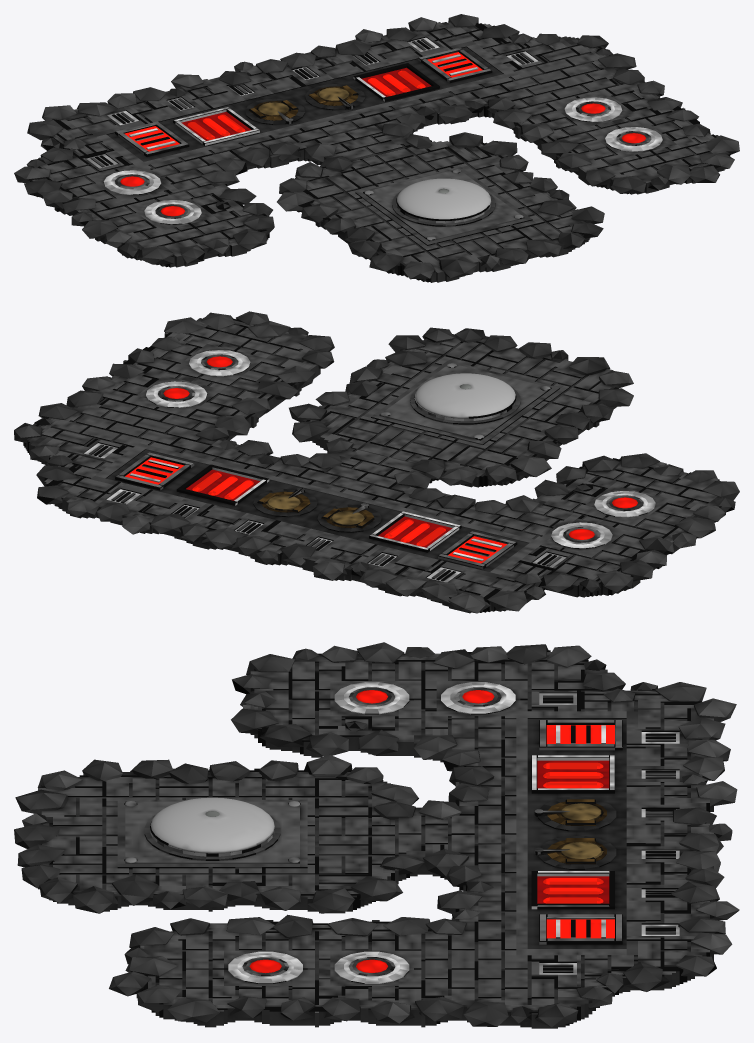
File: l1bld-ring-dome.glb
3 views of the same model, one above another, from view 1: azimuth 30°, elevation 25°; view 2: azimuth 150°, elevation 25°; view 3: azimuth 270°, elevation 25° (orthographic). The views are drawn at different scales.
Parts seen in each view (by area): view 1: shapesz-l1bld-ring-dome-deck, shapesz-l1bld-ring-dome-parts; view 2: shapesz-l1bld-ring-dome-deck, shapesz-l1bld-ring-dome-parts; view 3: shapesz-l1bld-ring-dome-deck, shapesz-l1bld-ring-dome-parts.
Boxes of the visible parts, x1=… form: shapesz-l1bld-ring-dome-deck: x1=30, y1=22, x2=730, y2=282; shapesz-l1bld-ring-dome-parts: x1=14, y1=14, x2=739, y2=279; shapesz-l1bld-ring-dome-deck: x1=23, y1=318, x2=725, y2=613; shapesz-l1bld-ring-dome-parts: x1=14, y1=311, x2=739, y2=613; shapesz-l1bld-ring-dome-deck: x1=30, y1=650, x2=713, y2=1028; shapesz-l1bld-ring-dome-parts: x1=14, y1=642, x2=739, y2=1027.
Size of the model in its own units: 19.69 by 0.835 by 15.93.
Materials: 21 (21 with a texture image).
